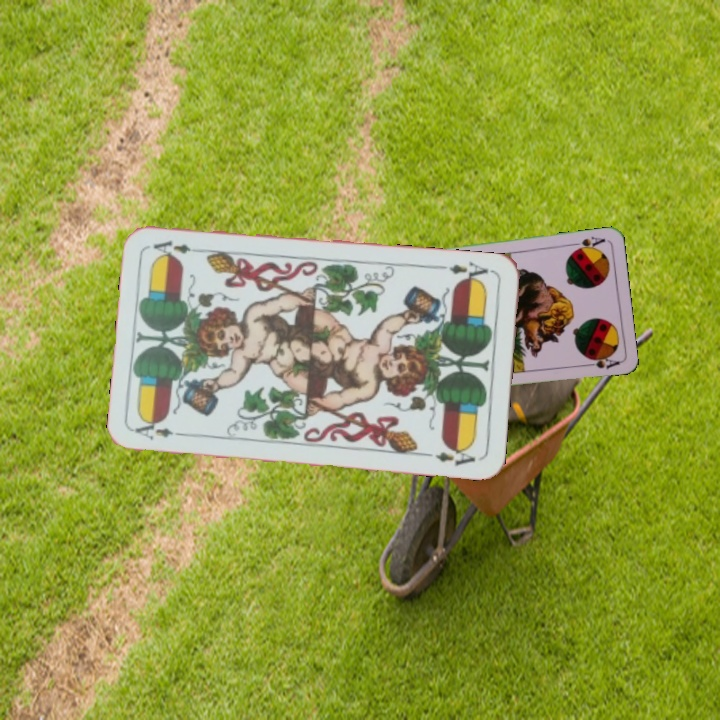EA: (436, 257, 495, 286), (131, 416, 190, 443)
SA: (567, 232, 608, 254)
